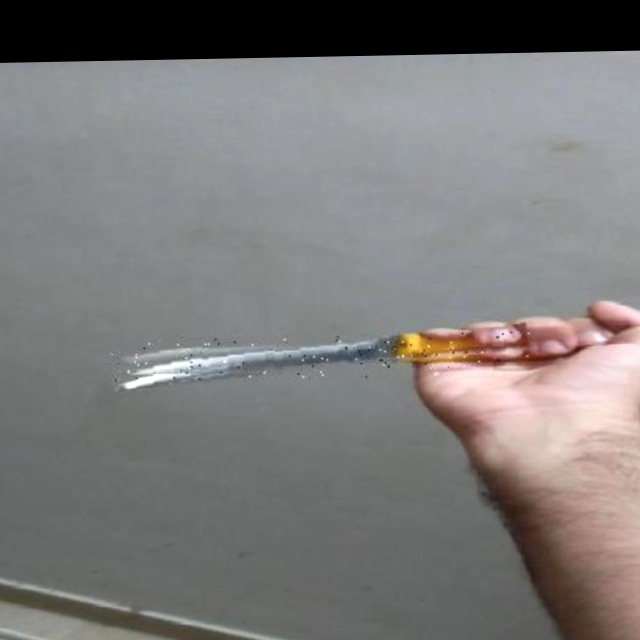Sharp-Object: (110, 331, 530, 382)
